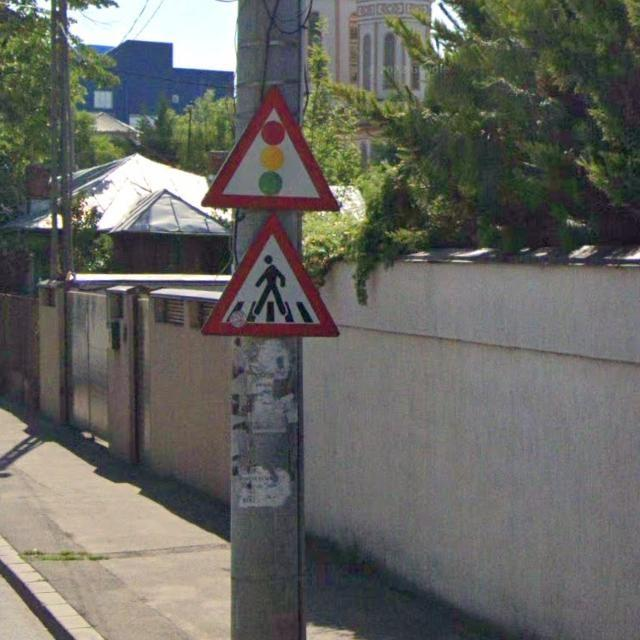warn_crosswalk: (200, 214, 339, 339)
